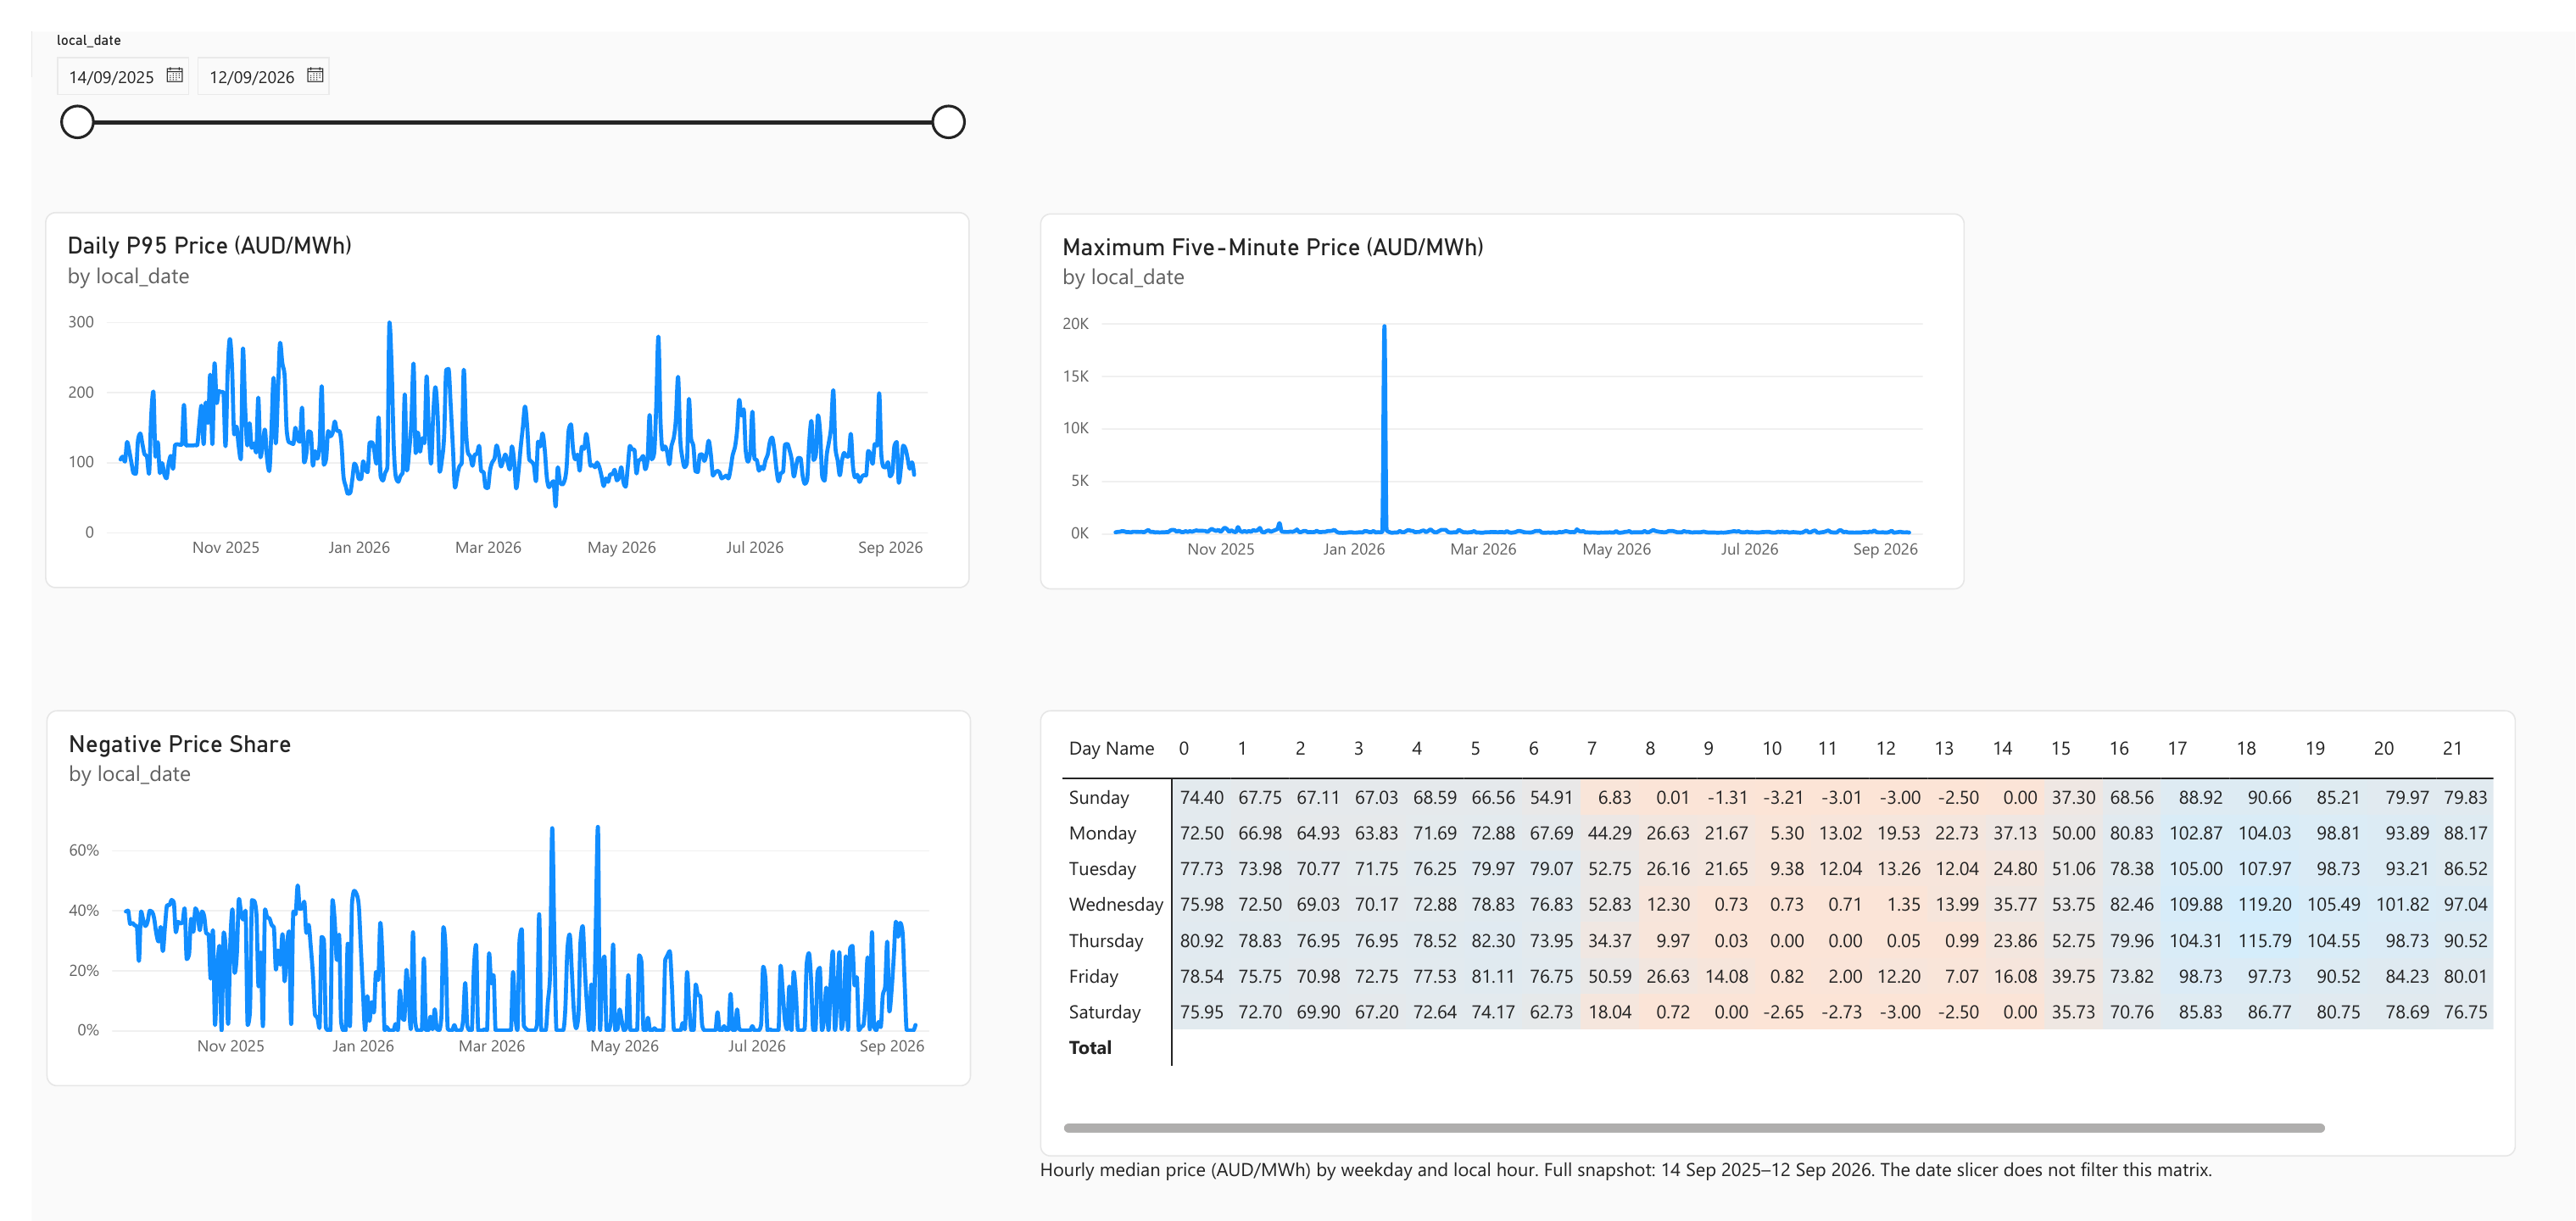

The page's visual inventory and layout, read from the dashboard file:
{"tool":"powerbi","page":{"name":"Price risk","canvas":[1920,1080],"ordinal":1},"visuals":[{"type":"lineChart","fields":{"Category":["dim_date.local_date"],"Y":["daily_price_metrics.Daily P95 Price (AUD/MWh)"]},"box":[10,136,698,284],"z":0},{"type":"lineChart","fields":{"Category":["dim_date.local_date"],"Y":["daily_price_metrics.Maximum Five-Minute Price (AUD/MWh)"]},"box":[760.6,136.7,698,284],"z":1},{"type":"lineChart","fields":{"Category":["dim_date.local_date"],"Y":["daily_price_metrics.Negative Price Share"]},"box":[10.8,512.4,698,284],"z":2},{"type":"slicer","fields":{"Values":["dim_date.local_date"]},"box":[10.8,0,697.6,118.7],"z":3},{"type":"pivotTable","fields":{"Columns":["hourly_price_patterns.local_hour"],"Rows":["hourly_price_patterns.Day Name"],"Values":["hourly_price_patterns.Hourly Median Price (AUD/MWh)"]},"box":[760.6,512.4,1114.8,336.2],"z":4},{"type":"textbox","box":[760.6,848.7,1114.8,107.9],"z":5}]}

Visuals, with their boxes on the page's 1920x1080 design canvas (x1, y1, x2, y2). These are canvas units, not pixel positions in the 2576x1221 screenshot, which may show the page scaled, cropped or inside an application window:
lineChart - dim_date.local_date x daily_price_metrics.Daily P95 Price (AUD/MWh): rect(10, 136, 708, 420)
lineChart - dim_date.local_date x daily_price_metrics.Maximum Five-Minute Price (AUD/MWh): rect(761, 137, 1459, 421)
lineChart - dim_date.local_date x daily_price_metrics.Negative Price Share: rect(11, 512, 709, 796)
slicer - dim_date.local_date: rect(11, 0, 708, 119)
pivotTable - hourly_price_patterns.local_hour x hourly_price_patterns.Day Name: rect(761, 512, 1875, 849)
textbox: rect(761, 849, 1875, 957)
